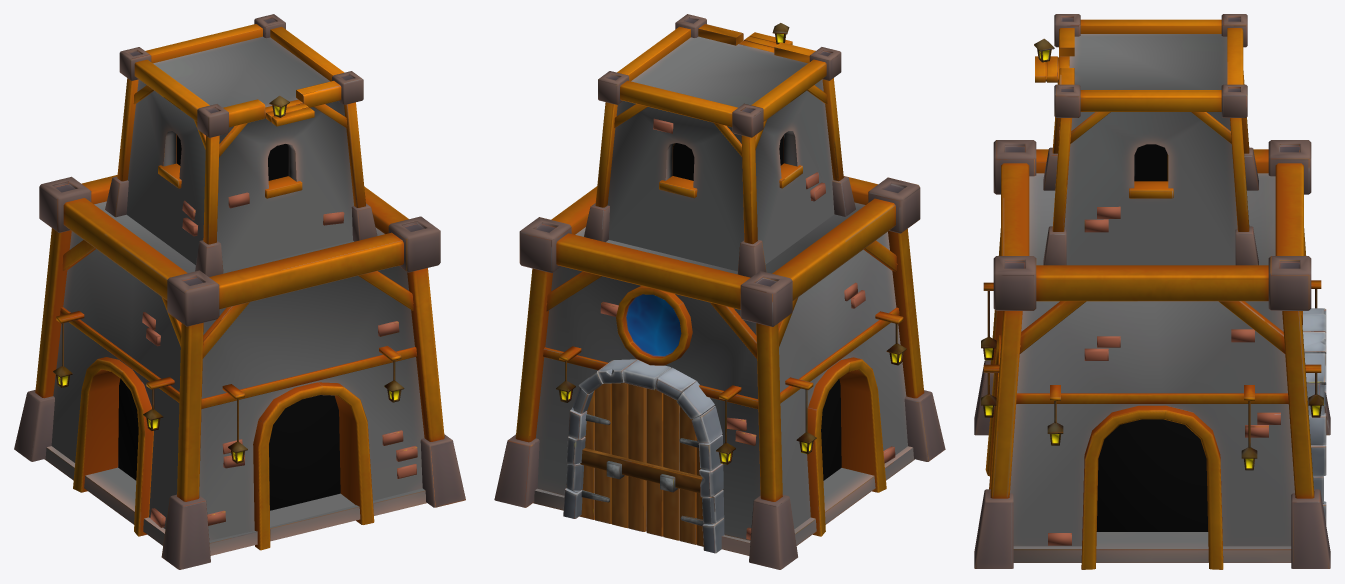
3 views of the same model, side by side, from view 1: azimuth 30°, elevation 25°; view 2: azimuth 150°, elevation 25°; view 3: azimuth 270°, elevation 25° (orthographic). The views are drawn at different scales.
Visible parts, largest first — view 1: Cube.006_Baked; view 2: Cube.006_Baked; view 3: Cube.006_Baked.
Boxes of the visible parts, <box> form: Cube.006_Baked: <box>14,14,465,569</box>; Cube.006_Baked: <box>494,14,945,569</box>; Cube.006_Baked: <box>974,14,1330,569</box>.
Size of the model in its own units: 300 by 423 by 300.
1 material, 1 textured.
